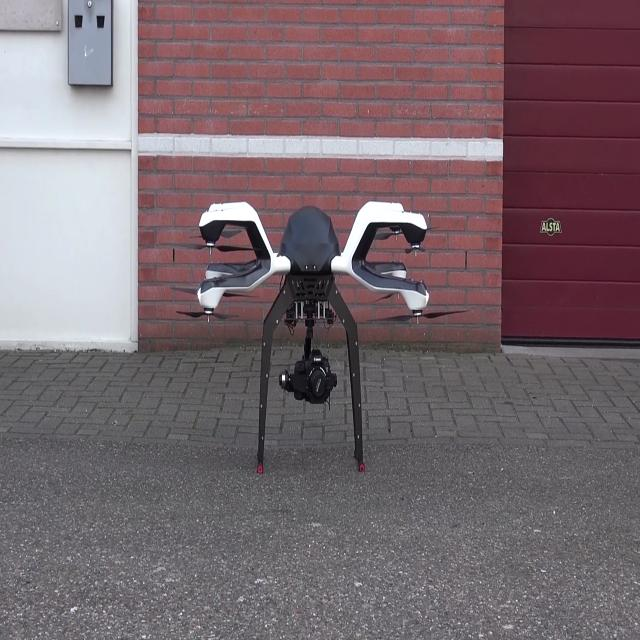drone: (185, 157, 457, 484)
